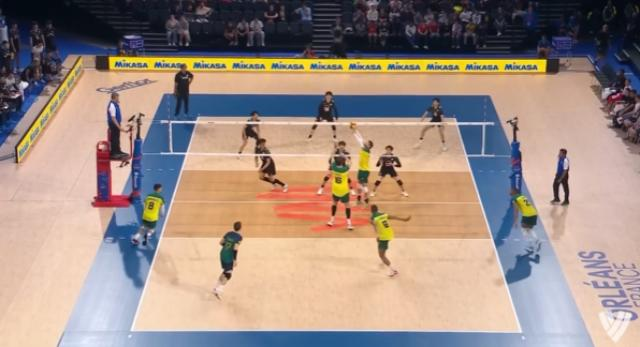Levantador: (351, 129, 383, 209), (226, 105, 266, 159)
Libero: (202, 216, 252, 310)
bola: (348, 118, 360, 136)
